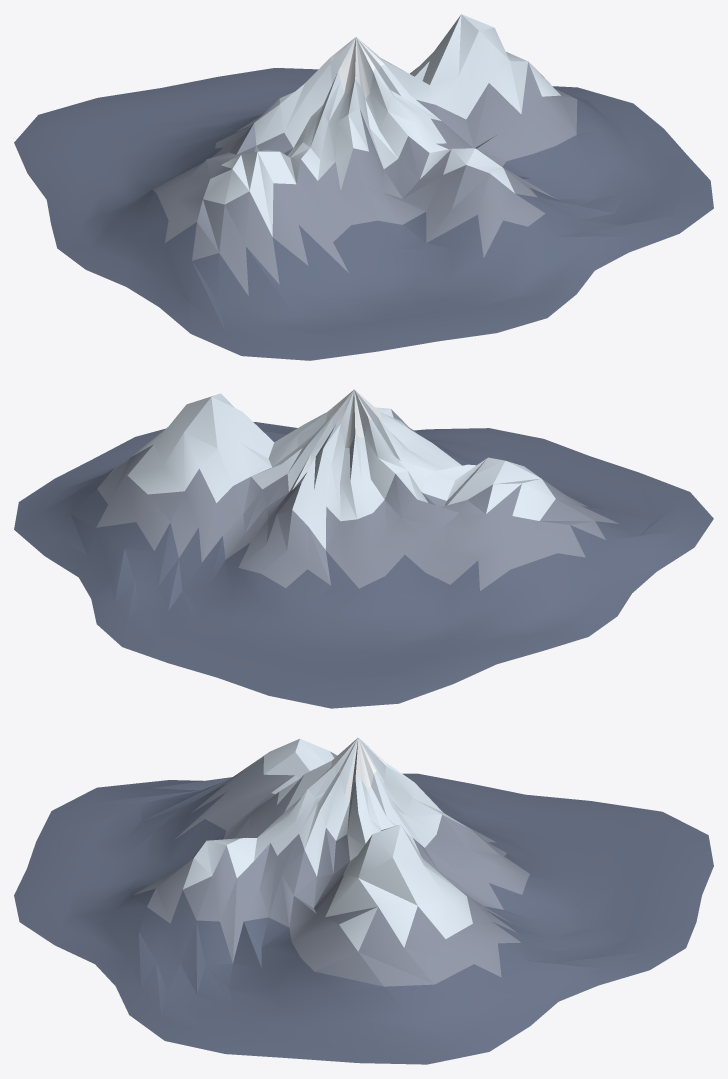
Rendered from MontanaNieve2.fbx.
3 views of the same model, one above another, from view 1: azimuth 30°, elevation 25°; view 2: azimuth 150°, elevation 25°; view 3: azimuth 270°, elevation 25° (orthographic). The views are drawn at different scales.
Visible parts, largest first — view 1: MontanaNieve2; view 2: MontanaNieve2; view 3: MontanaNieve2.
Part boxes in pixels (x1,y1,x2,y2): MontanaNieve2: [14, 14, 713, 360]; MontanaNieve2: [14, 389, 713, 708]; MontanaNieve2: [14, 737, 713, 1064].
Bounding box in the file's own units: 764 × 210 × 776.
Materials: 1 (1 with a texture image).
